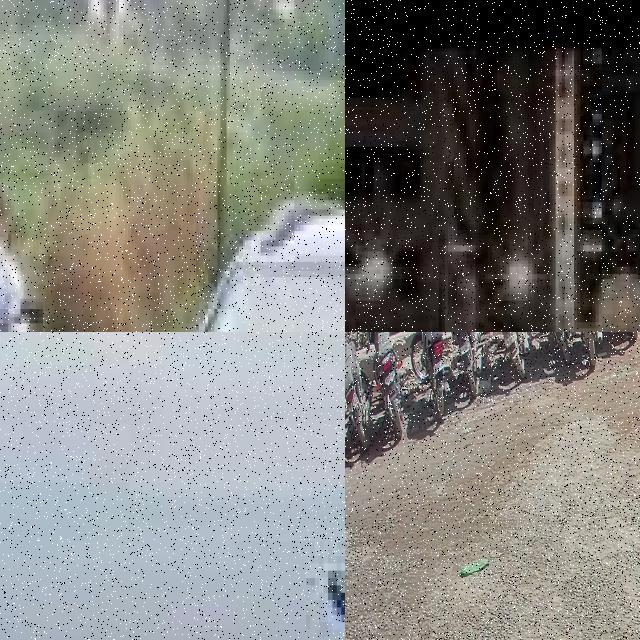bike: (366, 332, 408, 437), (409, 332, 450, 417), (345, 332, 371, 448), (442, 332, 484, 396), (485, 332, 529, 378), (530, 332, 572, 365), (570, 332, 603, 366)
car: (14, 117, 345, 332), (345, 220, 640, 332)
